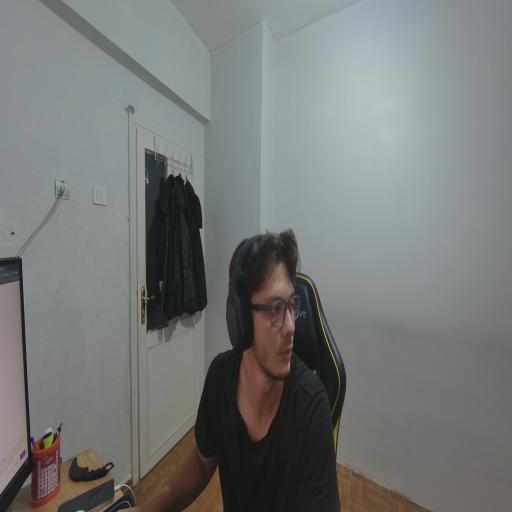cuma-face-v2: (228, 221, 306, 384)
